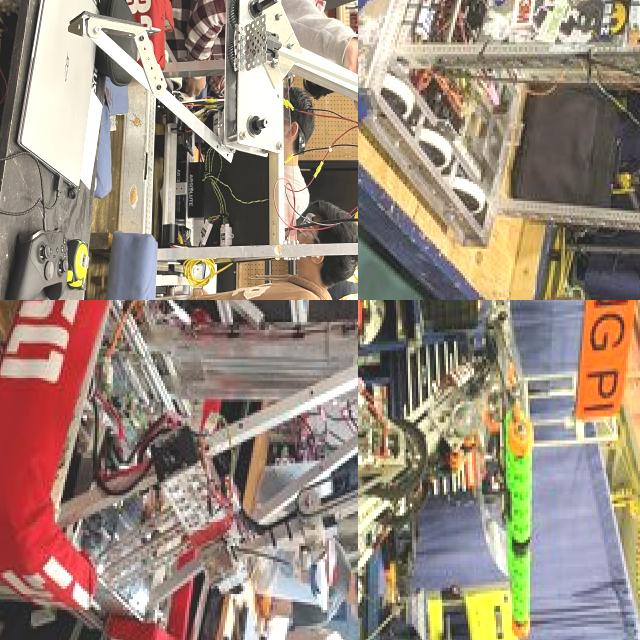FRC-Robots: (0, 300, 358, 640), (358, 0, 640, 300), (89, 0, 358, 300), (358, 300, 530, 640)
